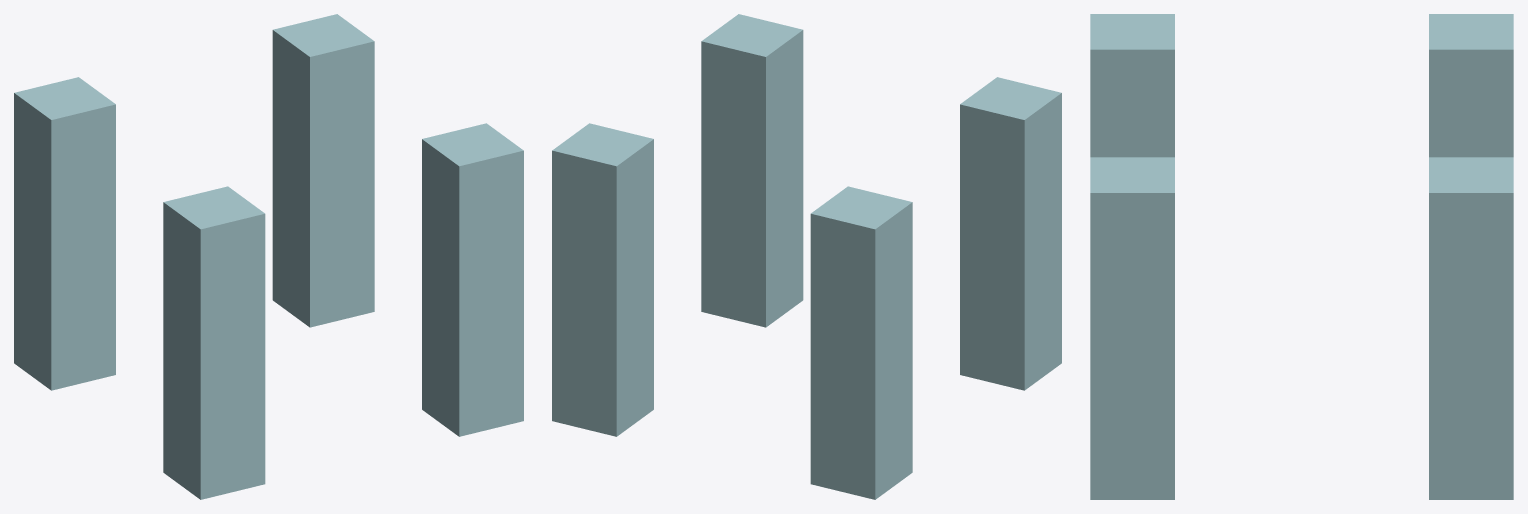
Rendered from fbBrickFloorTrap_Spikes.fbx.
3 renders of one model, left to right at view 1: azimuth 30°, elevation 25°; view 2: azimuth 150°, elevation 25°; view 3: azimuth 270°, elevation 25°, orthographic. The views are drawn at different scales.
Parts seen in each view (by area): view 1: fbBrick_01_F3; view 2: fbBrick_01_F3; view 3: fbBrick_01_F3.
Boxes of the visible parts, x1,y1,x2,y2 form: fbBrick_01_F3: [14, 14, 523, 499]; fbBrick_01_F3: [552, 14, 1061, 499]; fbBrick_01_F3: [1090, 14, 1513, 499].
Size of the model in its own units: 5 by 4 by 5.
